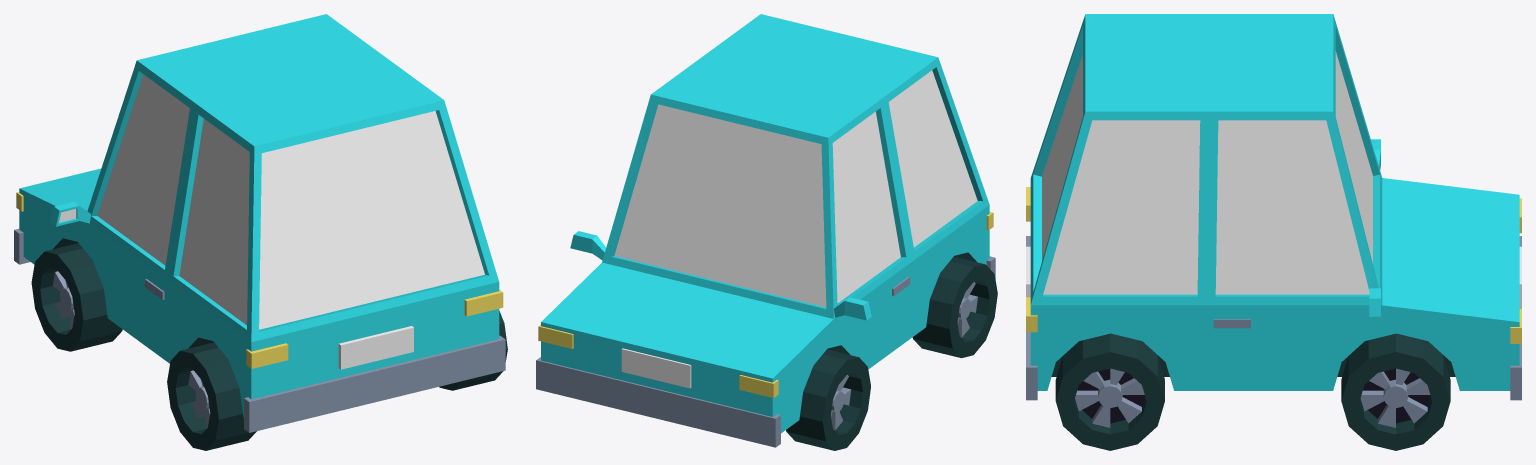
File: car_02.obj
3 views of the same model, side by side, from view 1: azimuth 30°, elevation 25°; view 2: azimuth 150°, elevation 25°; view 3: azimuth 270°, elevation 25° (orthographic). The views are drawn at different scales.
Parts seen in each view (by area): view 1: 03_-_tall_car_Cube.002; view 2: 03_-_tall_car_Cube.002; view 3: 03_-_tall_car_Cube.002.
Part boxes in pixels (box(x1,y1,x2,y2)): 03_-_tall_car_Cube.002: box(14, 14, 507, 450); 03_-_tall_car_Cube.002: box(536, 14, 997, 450); 03_-_tall_car_Cube.002: box(1026, 14, 1521, 450).
Size of the model in its own units: 2.13 by 1.91 by 2.74.
